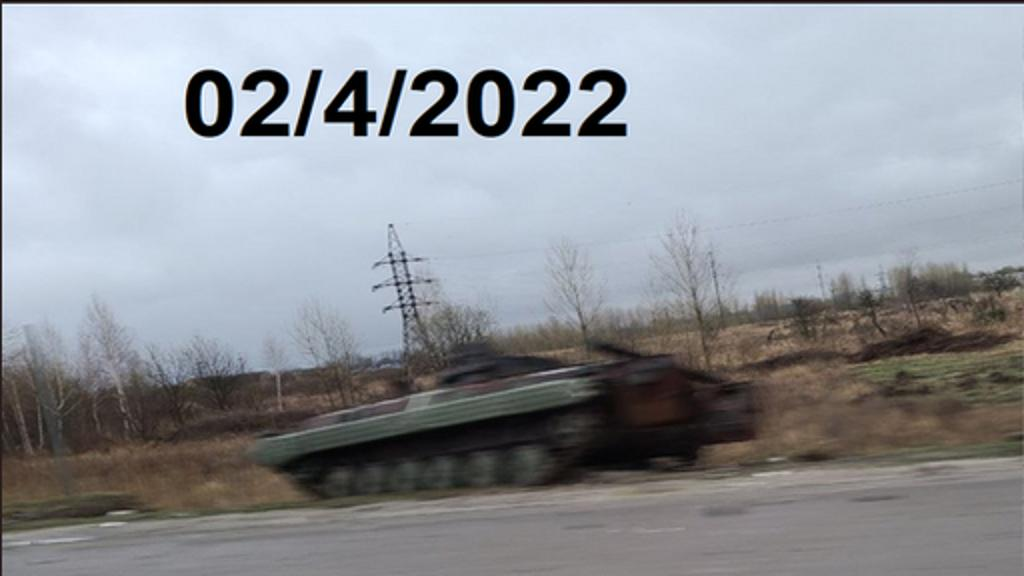APC-IFV: (240, 326, 758, 502)
